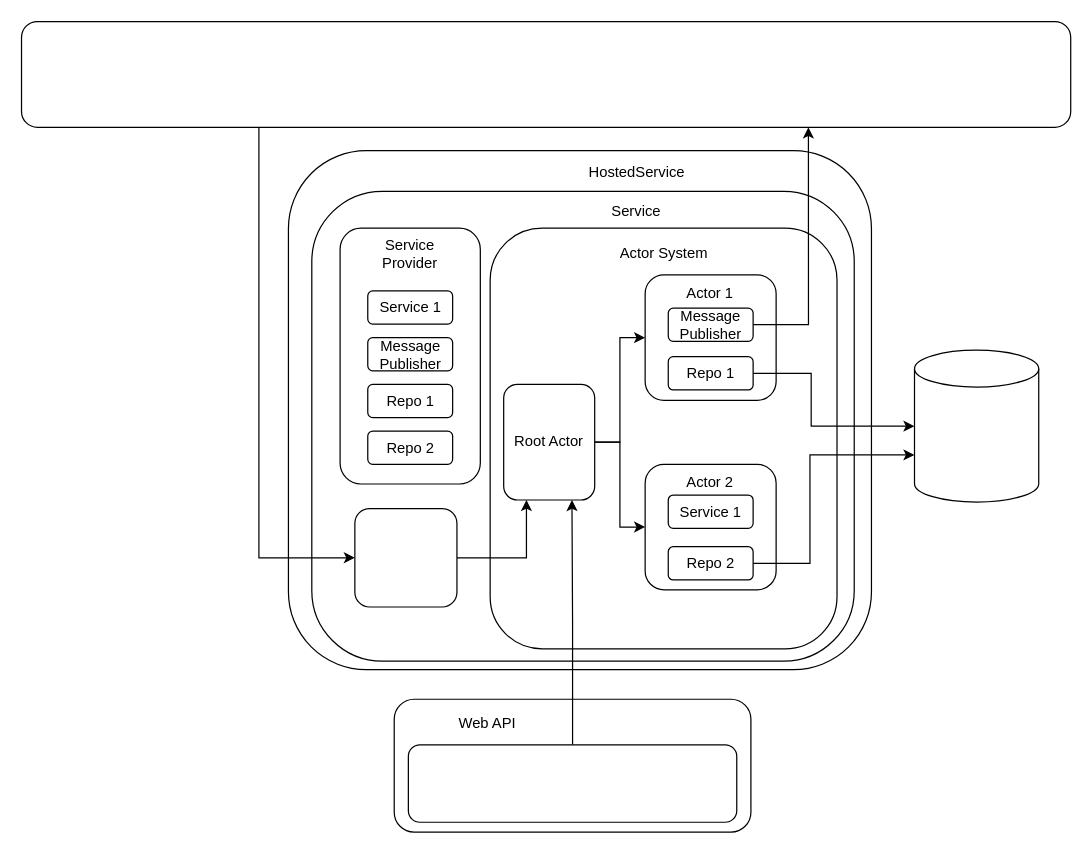
This 1092x854 diagram has some shape labels left out. The shapes that lost their labels are listed below. From the top down, each one's centre as x and y in pixels, then its label:
At [545,73]: "Message Broker".
At [976,425]: "Database".
At [405,557]: "Message Consumer".
At [572,783]: "Controllers / Endpoints".
